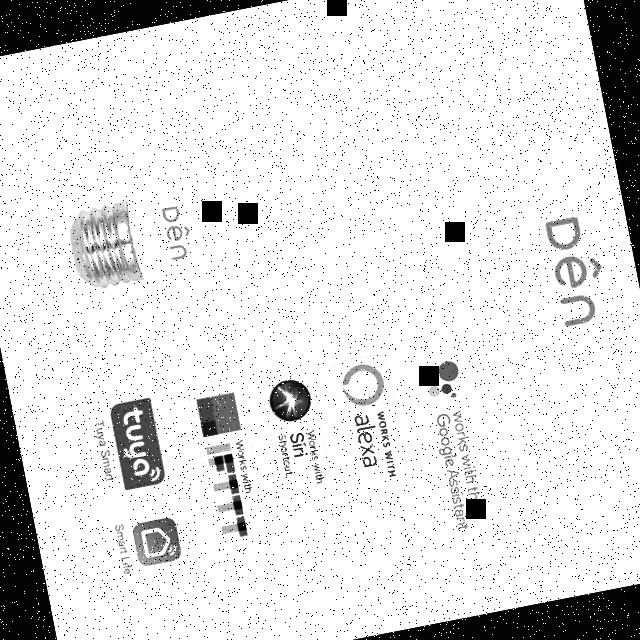light_bulb: (28, 40, 514, 379)
